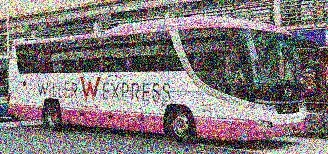bus: (13, 19, 300, 142)
